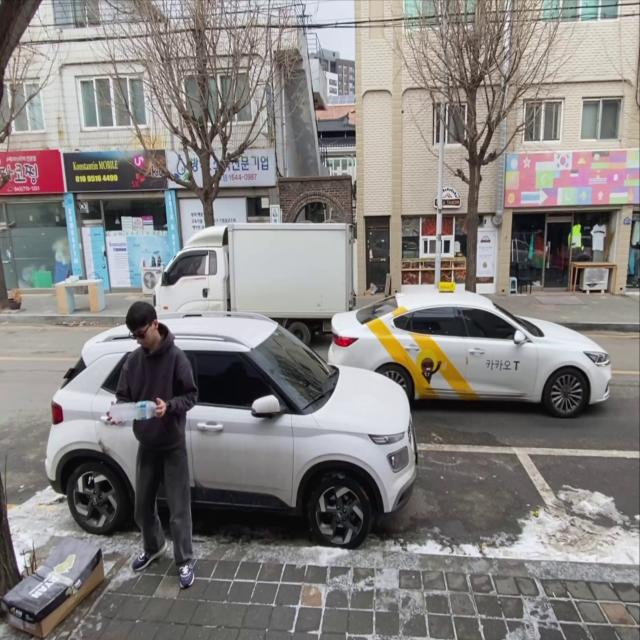bare_hand: (153, 396, 170, 423)
